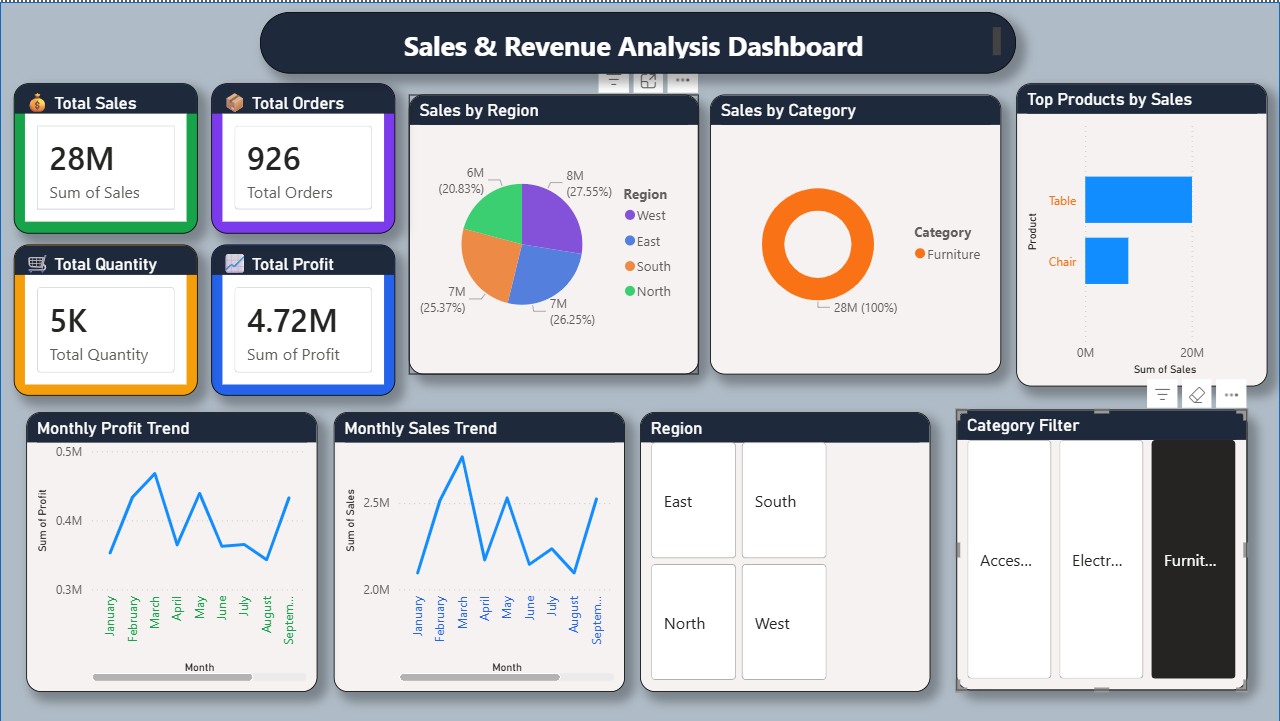

The page's visual inventory and layout, read from the dashboard file:
{"tool":"powerbi","page":{"name":"Page 1","canvas":[1280,720],"ordinal":0},"visuals":[{"type":"shape","box":[0,0,1280,720],"z":0},{"type":"cardVisual","title":"💰 Total Sales","fields":{"Data":["Sum(sales_data_5000_rows.Sales)","Sum(sales_data_5000_rows.Sales)"]},"box":[14.3,71.4,184.3,150],"z":1000},{"type":"cardVisual","title":"📈 Total Profit","fields":{"Data":["Sum(sales_data_5000_rows.Profit)"]},"box":[210,232.9,184.3,151.4],"z":2000},{"type":"clusteredBarChart","title":"Top Products by Sales","fields":{"Category":["sales_data_5000_rows.Product"],"Y":["Sum(sales_data_5000_rows.Sales)"]},"box":[1015.7,81.4,251.4,302.9],"z":3000},{"type":"pieChart","title":"Sales by Region","fields":{"Category":["sales_data_5000_rows.Region"],"Y":["Sum(sales_data_5000_rows.Sales)"]},"box":[961.4,408.6,291.4,280],"z":4000},{"type":"donutChart","title":"Sales by Category","fields":{"Category":["sales_data_5000_rows.Category"],"Y":["Sum(sales_data_5000_rows.Sales)"]},"box":[27.1,408.6,291.4,280],"z":5000},{"type":"lineChart","title":"Monthly Sales Trend","fields":{"Category":["sales_data_5000_rows.Order_Date.Variation.Date Hierarchy.Month"],"Y":["Sum(sales_data_5000_rows.Sales)"]},"box":[408.6,92.9,291.4,280],"z":6000},{"type":"advancedSlicerVisual","title":"Category Filter","fields":{"Values":["sales_data_5000_rows.Category"]},"box":[650,408.6,291.4,280],"z":7000},{"type":"advancedSlicerVisual","fields":{"Values":["sales_data_5000_rows.Region"]},"box":[337.1,408.6,291.4,280],"z":8000},{"type":"lineChart","title":"Monthly Profit Trend","fields":{"Category":["sales_data_5000_rows.Order_Date.Variation.Date Hierarchy.Month"],"Y":["Sum(sales_data_5000_rows.Profit)"]},"box":[710,92.9,291.4,280],"z":9000},{"type":"cardVisual","title":"📦 Total Orders","fields":{"Data":["sales_data_5000_rows.Total Orders"]},"box":[211.4,71.4,184.3,150],"z":10000},{"type":"cardVisual","title":"🛒 Total Quantity","fields":{"Data":["sales_data_5000_rows.Total Quantity"]},"box":[14.3,232.9,184.3,151.4],"z":11000},{"type":"textbox","title":"Sales & Revenue Analysis Dashboard","box":[287.4,10,743.9,42.3],"z":12000}]}

Visuals, with their boxes in screenshot pixels (x1, y1, x2, y2), scaled from the page's 1280x720 canvas onto the 1280x721 screenshot:
shape: [x1=0, y1=0, x2=1279, y2=720]
"💰 Total Sales" cardVisual: [x1=14, y1=71, x2=199, y2=222]
"📈 Total Profit" cardVisual: [x1=210, y1=233, x2=394, y2=385]
"Top Products by Sales" clusteredBarChart: [x1=1016, y1=82, x2=1267, y2=385]
"Sales by Region" pieChart: [x1=961, y1=409, x2=1253, y2=690]
"Sales by Category" donutChart: [x1=27, y1=409, x2=318, y2=690]
"Monthly Sales Trend" lineChart: [x1=409, y1=93, x2=700, y2=373]
"Category Filter" advancedSlicerVisual: [x1=650, y1=409, x2=941, y2=690]
advancedSlicerVisual - sales_data_5000_rows.Region: [x1=337, y1=409, x2=628, y2=690]
"Monthly Profit Trend" lineChart: [x1=710, y1=93, x2=1001, y2=373]
"📦 Total Orders" cardVisual: [x1=211, y1=71, x2=396, y2=222]
"🛒 Total Quantity" cardVisual: [x1=14, y1=233, x2=199, y2=385]
"Sales & Revenue Analysis Dashboard" textbox: [x1=287, y1=10, x2=1031, y2=52]
